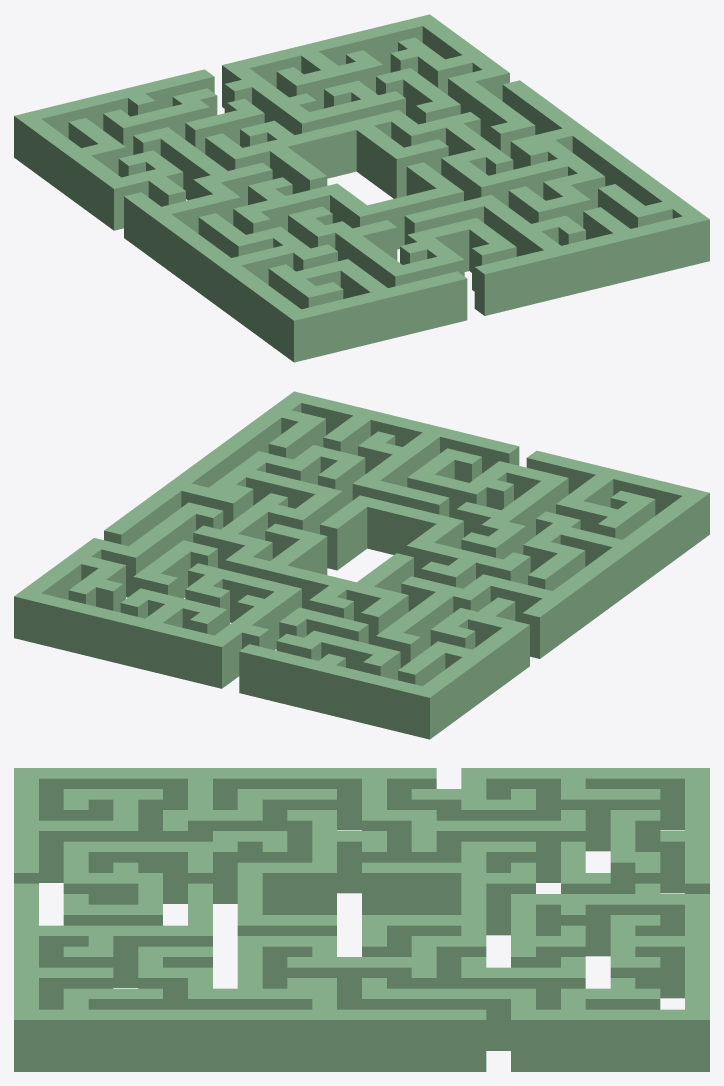
The model's file is Maze.fbx.
The picture shows the model from 3 angles, top to bottom: view 1: azimuth 30°, elevation 25°; view 2: azimuth 150°, elevation 25°; view 3: azimuth 270°, elevation 25°; orthographic projection. The views are drawn at different scales.
Visible parts, largest first — view 1: Maze; view 2: Maze; view 3: Maze.
Boxes of the visible parts, x1=… form: Maze: x1=14, y1=14, x2=709, y2=362; Maze: x1=14, y1=391, x2=709, y2=739; Maze: x1=14, y1=768, x2=709, y2=1071.
Size of the model in its own units: 29.52 by 2.83 by 34.44.
